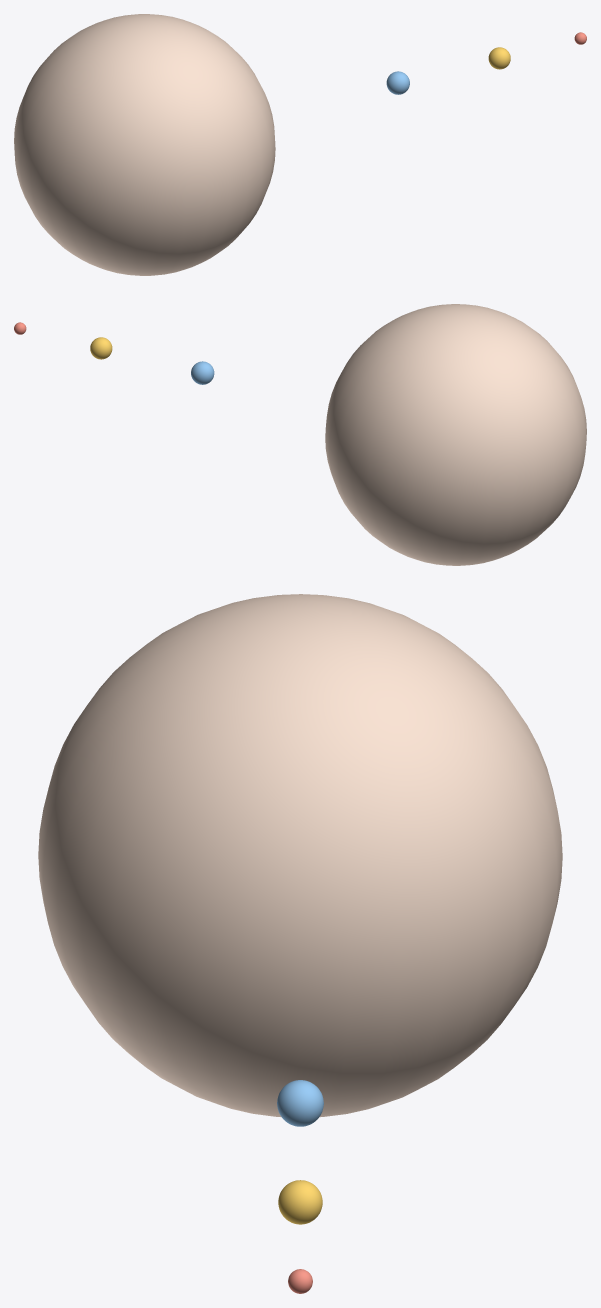
The picture shows the model from 3 angles, top to bottom: view 1: azimuth 30°, elevation 25°; view 2: azimuth 150°, elevation 25°; view 3: azimuth 270°, elevation 25°; orthographic projection. The views are drawn at different scales.
Parts seen in each view (by area): view 1: Jupiter, Earth, Venus; view 2: Jupiter, Earth, Venus; view 3: Jupiter, Earth, Venus.
Part boxes in pixels (<box>): Jupiter: <box>14,14,275,275</box>; Earth: <box>386,71,409,94</box>; Venus: <box>488,47,510,69</box>; Jupiter: <box>325,304,586,565</box>; Earth: <box>191,361,214,384</box>; Venus: <box>90,337,112,359</box>; Jupiter: <box>38,594,562,1117</box>; Earth: <box>277,1080,323,1126</box>; Venus: <box>278,1180,322,1224</box>.
Size of the model in its own units: 54.73 by 22.4 by 22.4.
